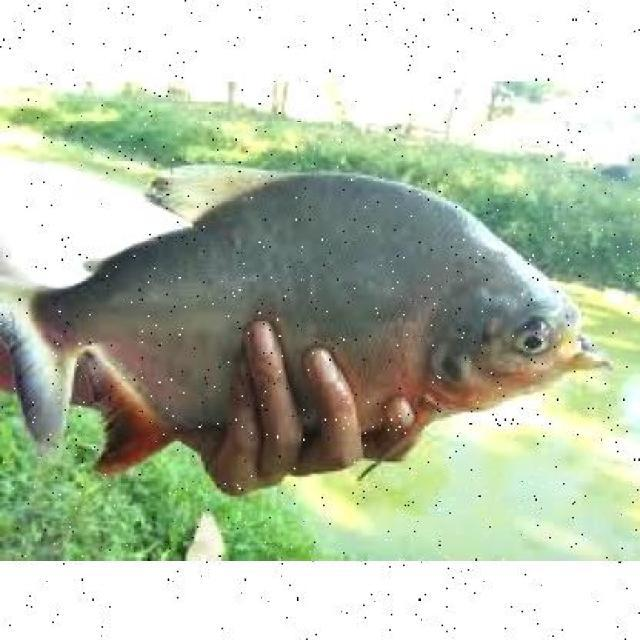ikan-pacu: (9, 153, 600, 464)
